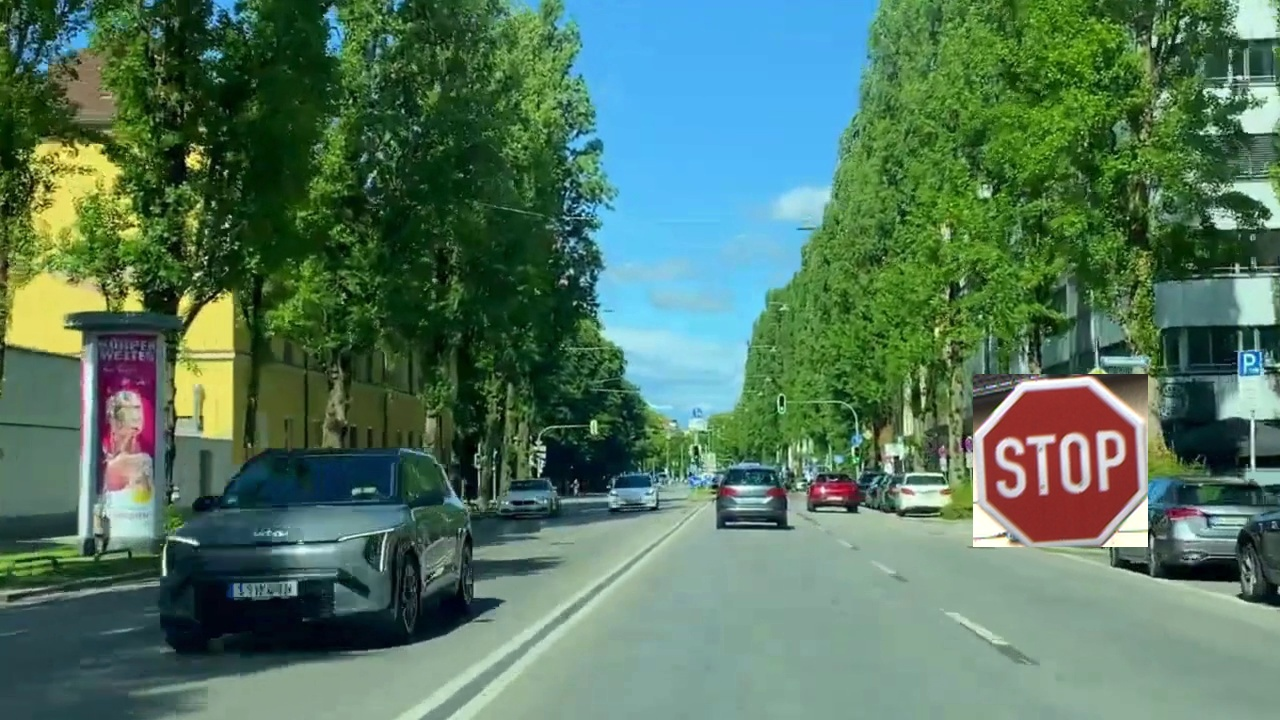Stop: (973, 374, 1148, 547)
